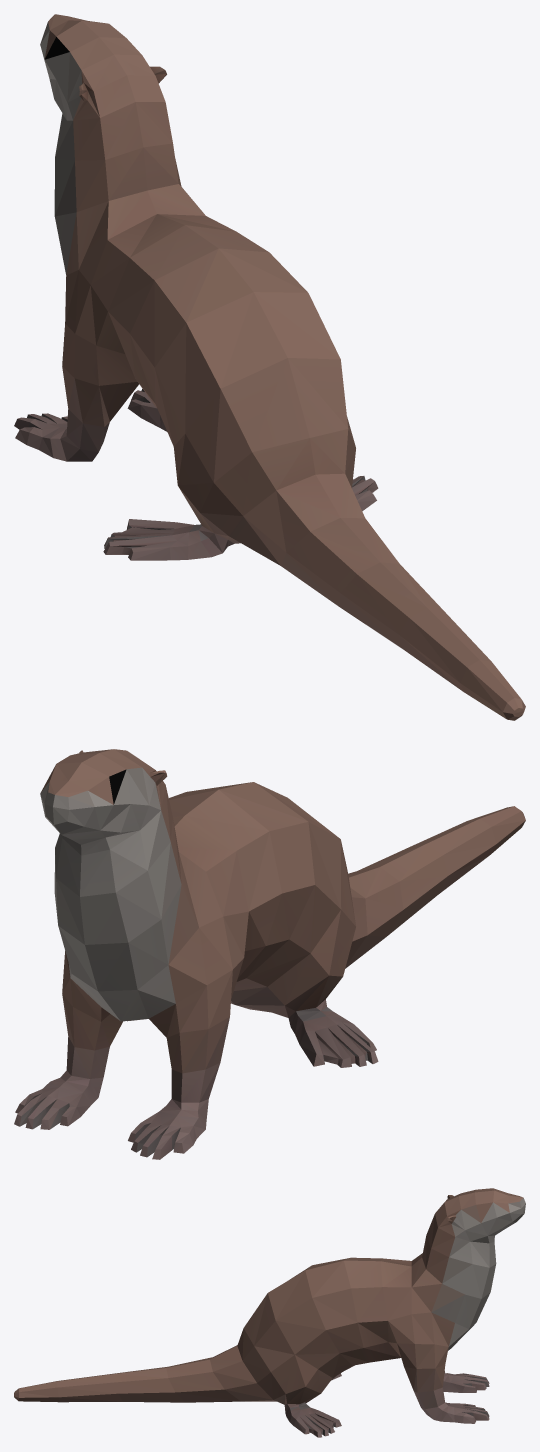
Rendered from moderotter.glb.
3 views of the same model, one above another, from view 1: azimuth 30°, elevation 25°; view 2: azimuth 150°, elevation 25°; view 3: azimuth 270°, elevation 25° (orthographic). The views are drawn at different scales.
Visible parts, largest first — view 1: RiverOtter_Mesh; view 2: RiverOtter_Mesh; view 3: RiverOtter_Mesh.
Boxes of the visible parts, left/top/right/bottom form: RiverOtter_Mesh: left=14, top=14, right=525, bottom=720; RiverOtter_Mesh: left=14, top=749, right=525, bottom=1159; RiverOtter_Mesh: left=14, top=1188, right=525, bottom=1437.
Size of the model in its own units: 0.3541 by 0.4765 by 1.05.
